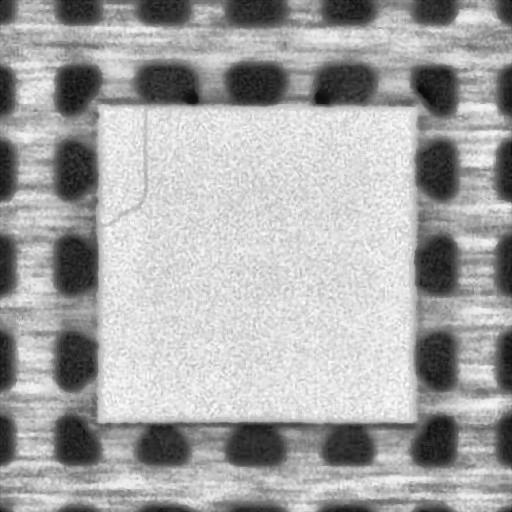DIE_CRACK: (98, 103, 150, 228)
